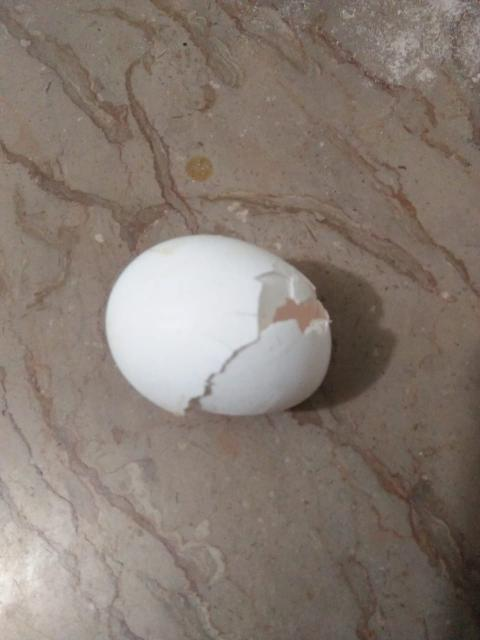Roto: (103, 232, 332, 418)
